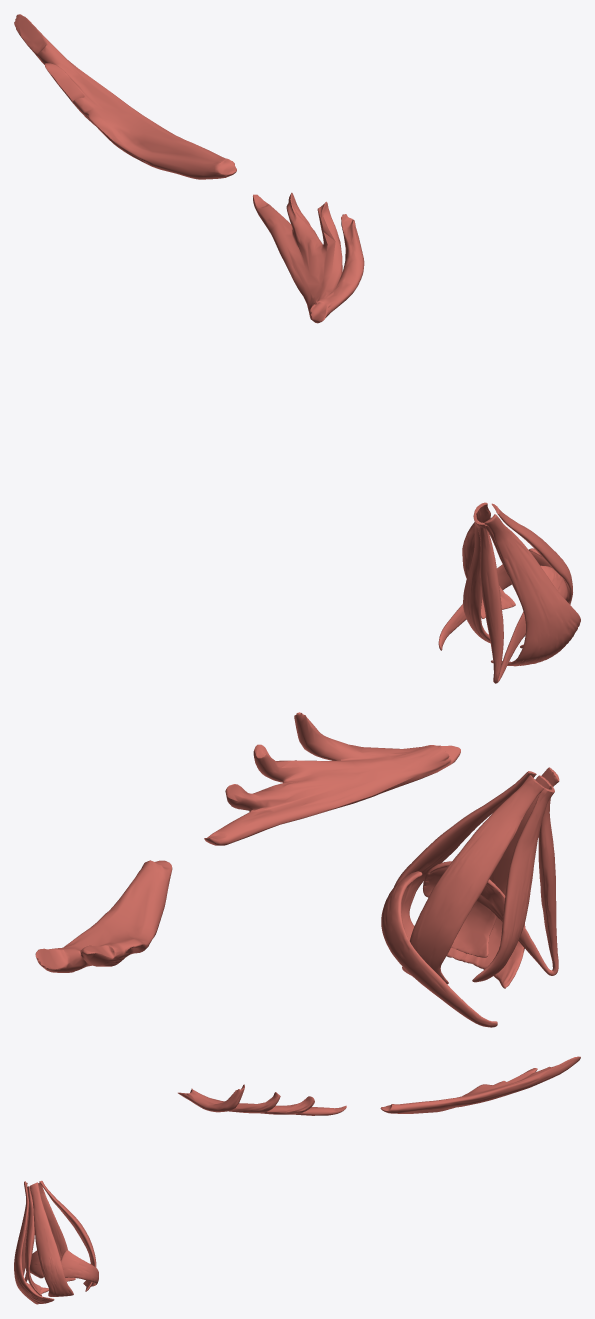
The model's file is eyem.glb.
The picture shows the model from 3 angles, top to bottom: view 1: azimuth 30°, elevation 25°; view 2: azimuth 150°, elevation 25°; view 3: azimuth 270°, elevation 25°; orthographic projection. The views are drawn at different scales.
Visible parts, largest first — view 1: inferior oblique part of left longus colli, superior oblique part of left longus colli, left levator palpebrae superioris, left superior oblique, left medial rectus, left lateral rectus, left inferior rectus, left inferior oblique; view 2: superior oblique part of left longus colli, left inferior rectus, inferior oblique part of left longus colli, left medial rectus, left superior oblique, left inferior oblique, left lateral rectus, left superior rectus, left levator palpebrae superioris; view 3: inferior oblique part of left longus colli, superior oblique part of left longus colli, left lateral rectus, left levator palpebrae superioris, left inferior oblique, left inferior rectus, left superior rectus, left medial rectus, left superior oblique.
Boxes of the visible parts, box(x1,y1,x2,y2) form: inferior oblique part of left longus colli: box(14, 14, 236, 179); superior oblique part of left longus colli: box(253, 192, 364, 323); left levator palpebrae superioris: box(484, 514, 580, 666); left superior oblique: box(478, 522, 567, 683); left medial rectus: box(463, 512, 490, 643); left lateral rectus: box(491, 503, 572, 604); left inferior rectus: box(462, 502, 515, 618); left inferior oblique: box(438, 548, 551, 650); superior oblique part of left longus colli: box(204, 712, 460, 845); left inferior rectus: box(402, 775, 544, 984); inferior oblique part of left longus colli: box(35, 860, 172, 972); left medial rectus: box(472, 787, 554, 982); left superior oblique: box(423, 785, 558, 975); left inferior oblique: box(381, 871, 497, 1027); left lateral rectus: box(394, 771, 536, 940); left superior rectus: box(451, 775, 551, 957); left levator palpebrae superioris: box(414, 767, 559, 988); inferior oblique part of left longus colli: box(380, 1056, 580, 1113); superior oblique part of left longus colli: box(178, 1084, 346, 1115); left lateral rectus: box(29, 1182, 73, 1296); left levator palpebrae superioris: box(14, 1181, 54, 1304); left inferior oblique: box(60, 1250, 98, 1286); left inferior rectus: box(39, 1180, 96, 1291); left superior rectus: box(25, 1186, 41, 1296); left medial rectus: box(38, 1182, 75, 1281); left superior oblique: box(21, 1211, 43, 1281).
Bounding box in the file's own units: 43.34 × 97.1 × 225.
